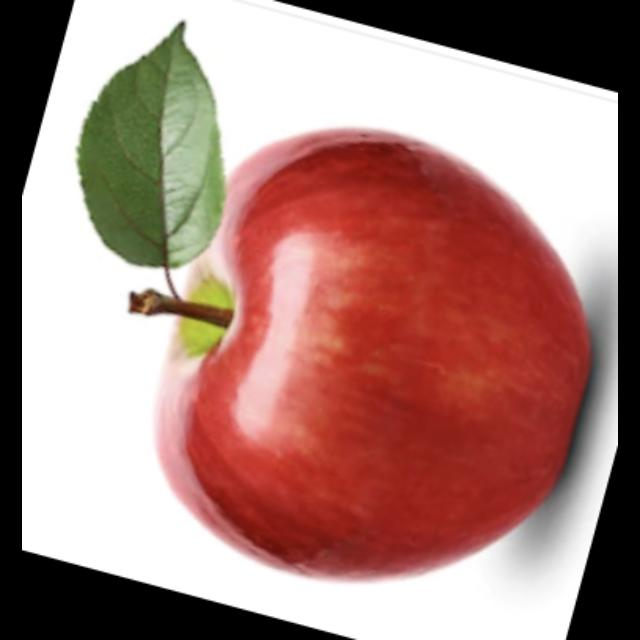Apel Segar: (142, 114, 602, 596)
